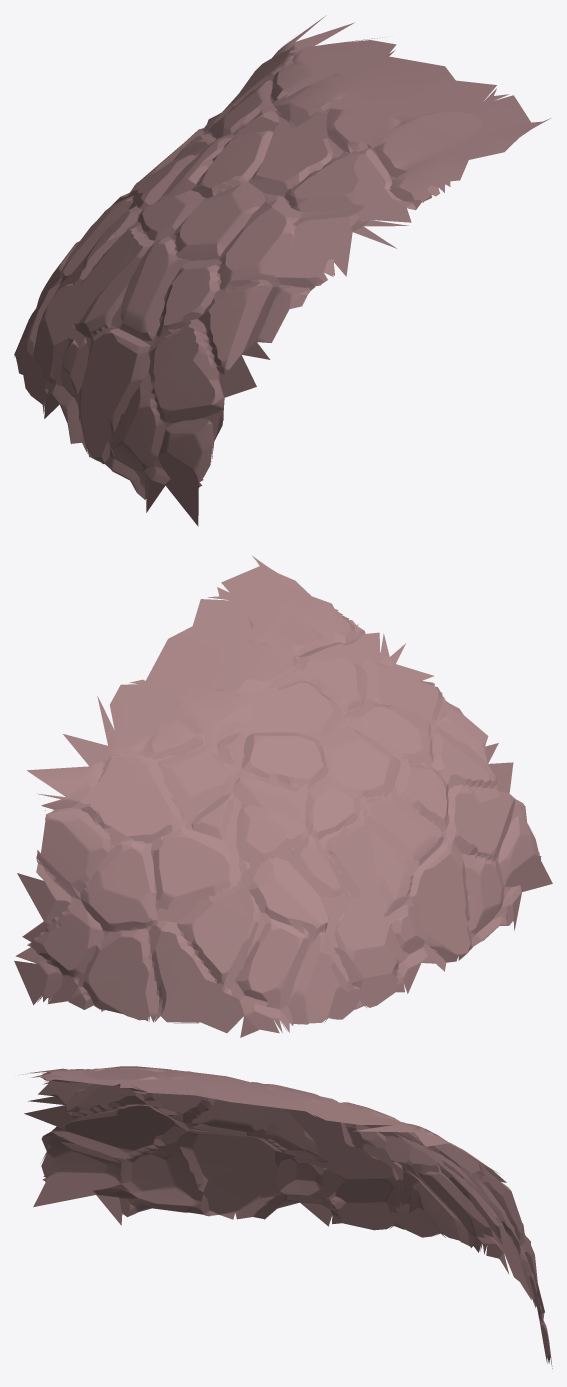
File: mini_canyon.fbx_Cube__12__015LODs.fbx
3 views of the same model, one above another, from view 1: azimuth 30°, elevation 25°; view 2: azimuth 150°, elevation 25°; view 3: azimuth 270°, elevation 25° (orthographic). The views are drawn at different scales.
Parts seen in each view (by area): view 1: Cube (12).015_LOD0; view 2: Cube (12).015_LOD0; view 3: Cube (12).015_LOD0.
Boxes of the visible parts, x1=… form: Cube (12).015_LOD0: x1=14, y1=15, x2=550, y2=526; Cube (12).015_LOD0: x1=14, y1=556, x2=552, y2=1037; Cube (12).015_LOD0: x1=18, y1=1066, x2=552, y2=1368.
Size of what is drawn, in the model's own units: 4817 by 4016 by 6475.
